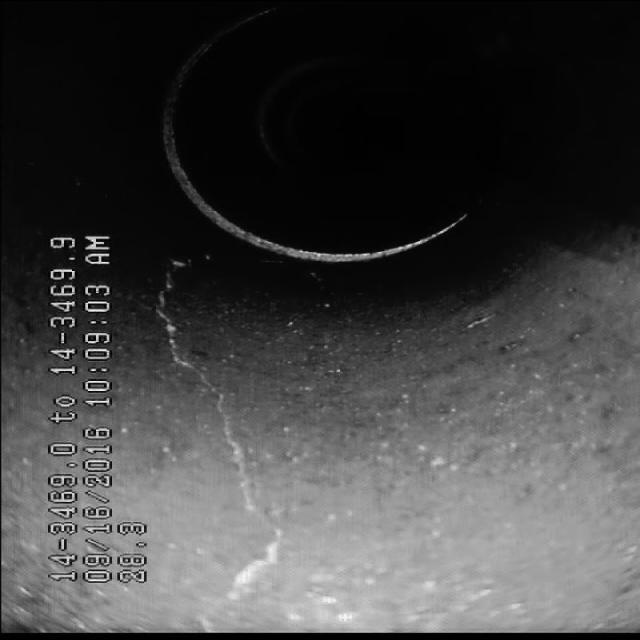Crack: (144, 264, 284, 552)
